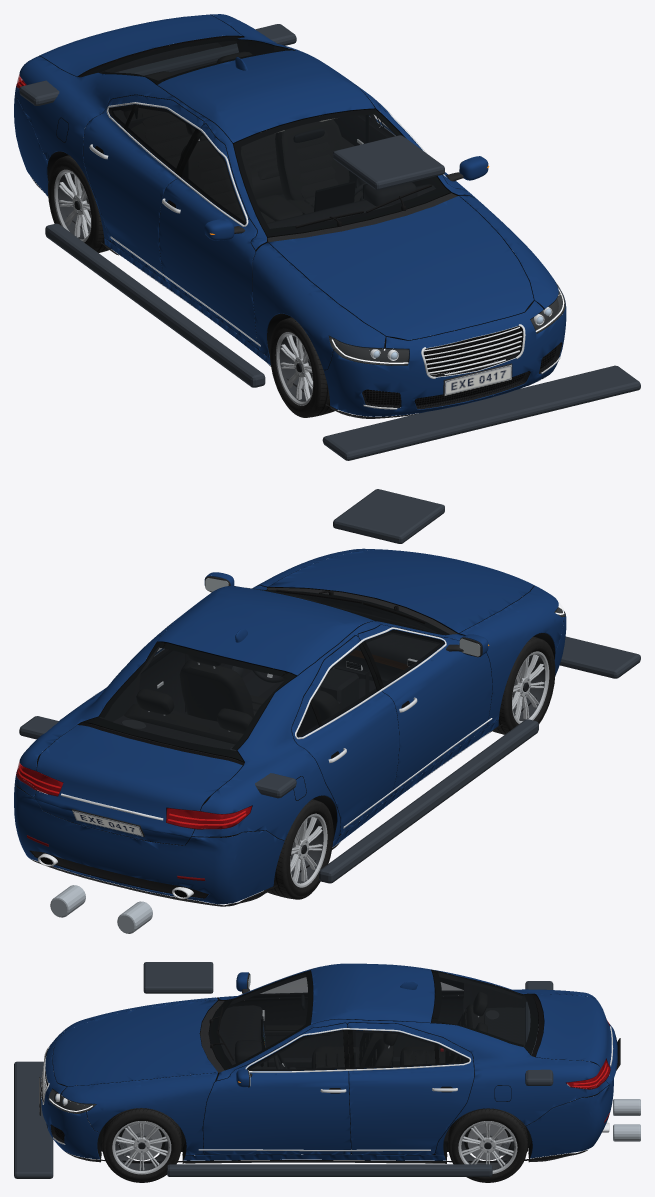
File: car_sahin.glb
3 views of the same model, one above another, from view 1: azimuth 30°, elevation 25°; view 2: azimuth 150°, elevation 25°; view 3: azimuth 270°, elevation 25° (orthographic). The views are drawn at different scales.
Visible parts, largest first — view 1: Body, Mod_Splitter, Mod_Skirt_-1, Wheel_FR, Mod_Hood, Wheel_RR, Mod_Wing; view 2: Body, Mod_Skirt_-1, Wheel_RR, Mod_Hood, Wheel_FR, Mod_Splitter, Mod_Wing, Mod_Exhaust_1, Mod_Exhaust_-1; view 3: Body, Wheel_FL, Wheel_RL, Mod_Skirt_1, Mod_Splitter, Mod_Hood, Mod_Wing, Mod_Exhaust_1, Mod_Exhaust_-1.
Part boxes in pixels (x1=…): Body: x1=14, y1=14, x2=566, y2=418; Mod_Splitter: x1=322, y1=365, x2=640, y2=460; Mod_Skirt_-1: x1=45, y1=223, x2=265, y2=387; Wheel_FR: x1=269, y1=317, x2=337, y2=417; Mod_Hood: x1=333, y1=135, x2=444, y2=190; Wheel_RR: x1=48, y1=155, x2=110, y2=252; Mod_Wing: x1=19, y1=24, x2=296, y2=105; Body: x1=14, y1=548, x2=566, y2=906; Mod_Skirt_-1: x1=319, y1=719, x2=538, y2=883; Wheel_RR: x1=264, y1=799, x2=333, y2=899; Mod_Hood: x1=333, y1=489, x2=444, y2=543; Wheel_FR: x1=492, y1=636, x2=555, y2=734; Mod_Splitter: x1=560, y1=636, x2=640, y2=678; Mod_Wing: x1=19, y1=716, x2=296, y2=798; Mod_Exhaust_1: x1=50, y1=885, x2=85, y2=917; Mod_Exhaust_-1: x1=117, y1=901, x2=152, y2=933; Body: x1=39, y1=963, x2=620, y2=1163; Wheel_FL: x1=102, y1=1108, x2=181, y2=1182; Wheel_RL: x1=448, y1=1108, x2=527, y2=1182; Mod_Skirt_1: x1=167, y1=1164, x2=492, y2=1176; Mod_Splitter: x1=14, y1=1061, x2=53, y2=1178; Mod_Hood: x1=143, y1=962, x2=213, y2=993; Mod_Wing: x1=525, y1=981, x2=553, y2=1085; Mod_Exhaust_1: x1=613, y1=1124, x2=640, y2=1141; Mod_Exhaust_-1: x1=613, y1=1099, x2=640, y2=1115.
Bounding box in the file's own units: 2.3 × 1.57 × 5.4.
61 materials, 12 textured.
